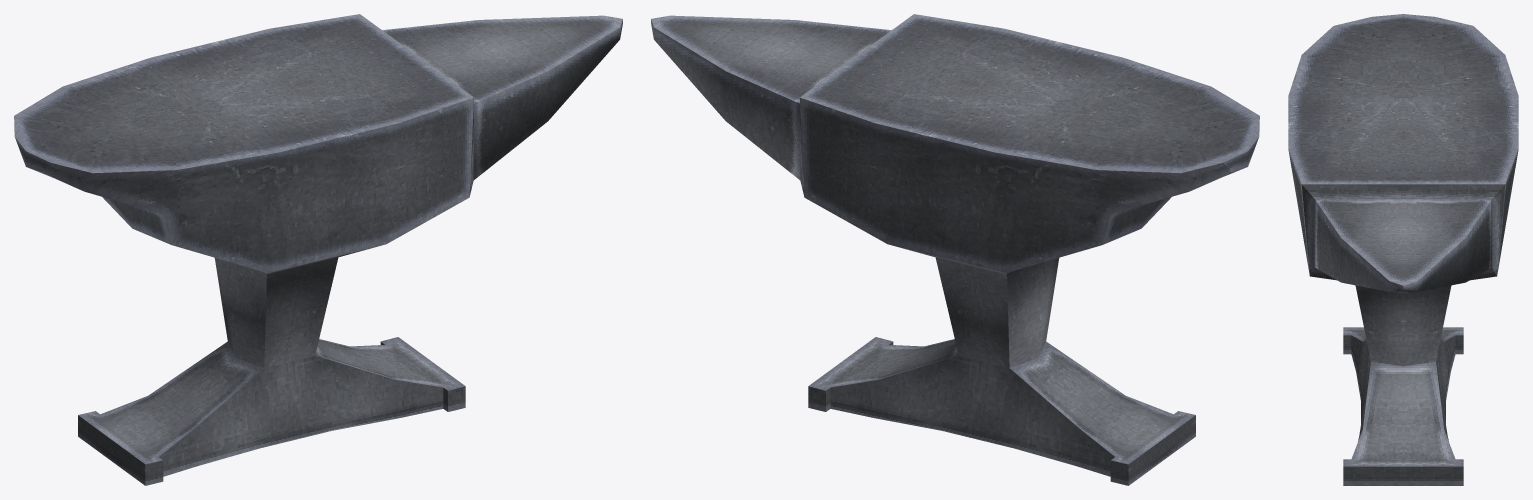
The model's file is anvil.glb.
The picture shows the model from 3 angles, left to right: view 1: azimuth 30°, elevation 25°; view 2: azimuth 150°, elevation 25°; view 3: azimuth 270°, elevation 25°; orthographic projection. The views are drawn at different scales.
Parts seen in each view (by area): view 1: Cube; view 2: Cube; view 3: Cube.
Part boxes in pixels (x1,y1,x2,y2): Cube: (14,14,622,485); Cube: (651,14,1259,485); Cube: (1288,14,1518,485).
Size of the model in its own units: 0.7845 by 0.4156 by 0.2943.
1 material, 1 textured.
